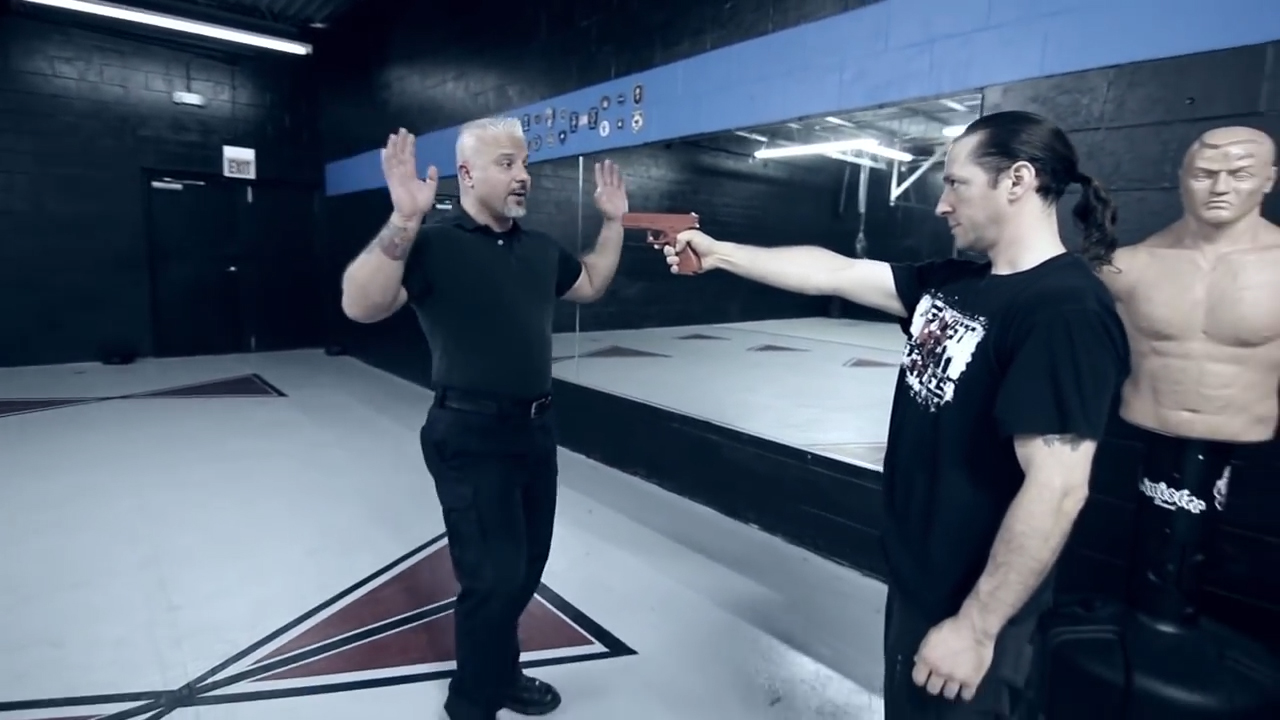pistol: (620, 210, 707, 274)
